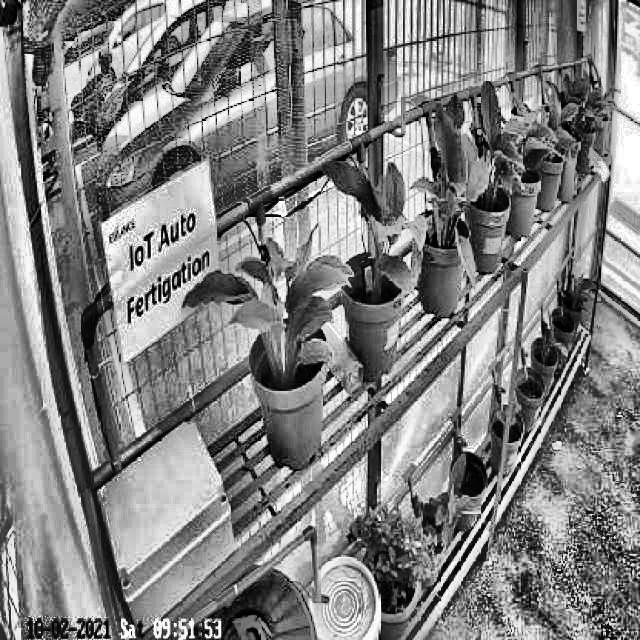plants: (182, 216, 356, 372), (322, 137, 427, 314), (410, 97, 478, 280), (464, 88, 526, 210)
